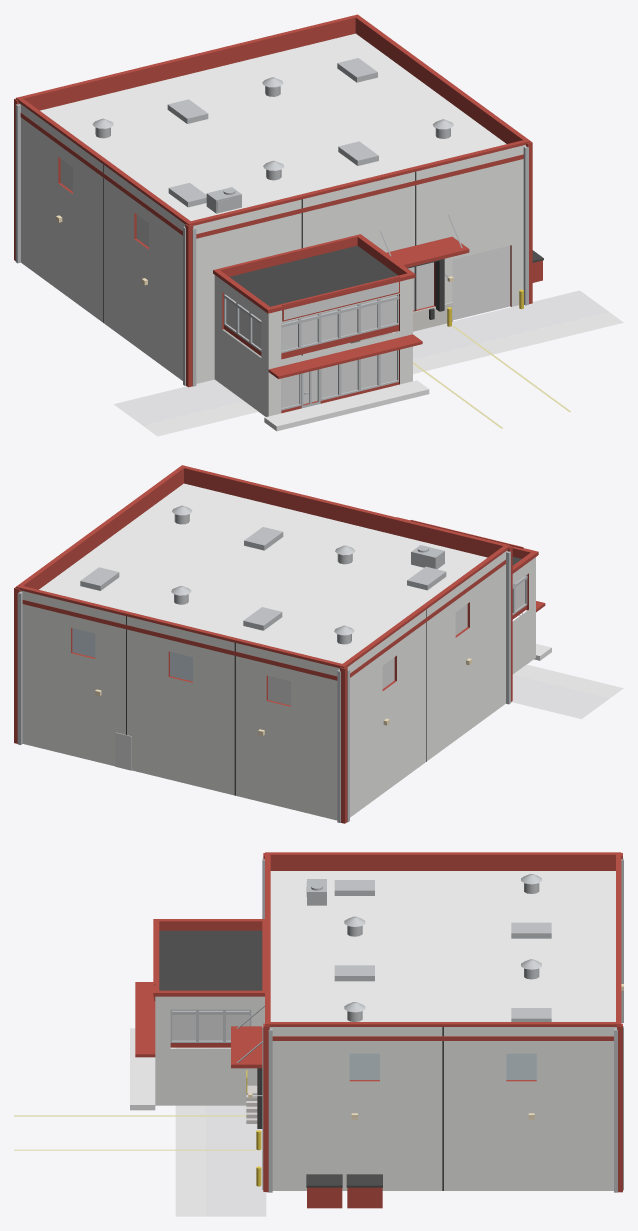
The model's file is industrial_urban80.glb.
The picture shows the model from 3 angles, top to bottom: view 1: azimuth 30°, elevation 25°; view 2: azimuth 150°, elevation 25°; view 3: azimuth 270°, elevation 25°; orthographic projection. The views are drawn at different scales.
Parts seen in each view (by area): view 1: industrial_urban80_Walls, industrial_urban80_Roof, industrial_urban80_Trim, industrial_urban80_Asphalt, industrial_urban80_Site, industrial_urban80_WindowsLit, industrial_urban80_Roof2, industrial_urban80_Frames, industrial_urban80_Details, industrial_urban80_Doors, industrial_urban80_Brand, industrial_urban80_Walls2; view 2: industrial_urban80_Walls, industrial_urban80_Roof, industrial_urban80_Trim, industrial_urban80_Details, industrial_urban80_Frames, industrial_urban80_Asphalt, industrial_urban80_Site, industrial_urban80_WindowsLit, industrial_urban80_Glass, industrial_urban80_Roof2, industrial_urban80_Doors; view 3: industrial_urban80_Walls, industrial_urban80_Roof, industrial_urban80_Trim, industrial_urban80_Roof2, industrial_urban80_Asphalt, industrial_urban80_Site, industrial_urban80_Details, industrial_urban80_Frames, industrial_urban80_WindowsLit, industrial_urban80_Glass, industrial_urban80_Paint.
Boxes of the visible parts, bbox=[...] form: industrial_urban80_Walls: bbox=[19, 103, 525, 416]; industrial_urban80_Roof: bbox=[40, 33, 506, 220]; industrial_urban80_Trim: bbox=[14, 14, 542, 413]; industrial_urban80_Asphalt: bbox=[114, 290, 608, 425]; industrial_urban80_Site: bbox=[143, 312, 623, 436]; industrial_urban80_WindowsLit: bbox=[60, 159, 396, 407]; industrial_urban80_Roof2: bbox=[103, 164, 543, 355]; industrial_urban80_Frames: bbox=[167, 58, 399, 410]; industrial_urban80_Details: bbox=[15, 77, 528, 394]; industrial_urban80_Doors: bbox=[408, 245, 510, 320]; industrial_urban80_Brand: bbox=[284, 282, 398, 320]; industrial_urban80_Walls2: bbox=[350, 302, 452, 343]; industrial_urban80_Walls: bbox=[20, 550, 535, 820]; industrial_urban80_Roof: bbox=[39, 483, 487, 663]; industrial_urban80_Trim: bbox=[14, 465, 545, 823]; industrial_urban80_Details: bbox=[17, 505, 510, 822]; industrial_urban80_Frames: bbox=[80, 527, 527, 630]; industrial_urban80_Asphalt: bbox=[511, 675, 609, 718]; industrial_urban80_Site: bbox=[513, 644, 623, 698]; industrial_urban80_WindowsLit: bbox=[268, 580, 524, 705]; industrial_urban80_Glass: bbox=[72, 628, 192, 681]; industrial_urban80_Roof2: bbox=[126, 557, 521, 795]; industrial_urban80_Doors: bbox=[115, 732, 131, 770]; industrial_urban80_Walls: bbox=[155, 996, 616, 1190]; industrial_urban80_Roof: bbox=[270, 871, 615, 1021]; industrial_urban80_Trim: bbox=[135, 852, 622, 1208]; industrial_urban80_Roof2: bbox=[159, 930, 443, 1190]; industrial_urban80_Asphalt: bbox=[206, 1047, 266, 1216]; industrial_urban80_Site: bbox=[130, 1028, 205, 1216]; industrial_urban80_Details: bbox=[236, 858, 623, 1192]; industrial_urban80_Frames: bbox=[170, 880, 551, 1042]; industrial_urban80_WindowsLit: bbox=[172, 1010, 249, 1040]; industrial_urban80_Glass: bbox=[349, 1053, 536, 1079]; industrial_urban80_Paint: bbox=[14, 1115, 256, 1150].
Bounding box in the file's own units: 110 × 37.1 × 121.
